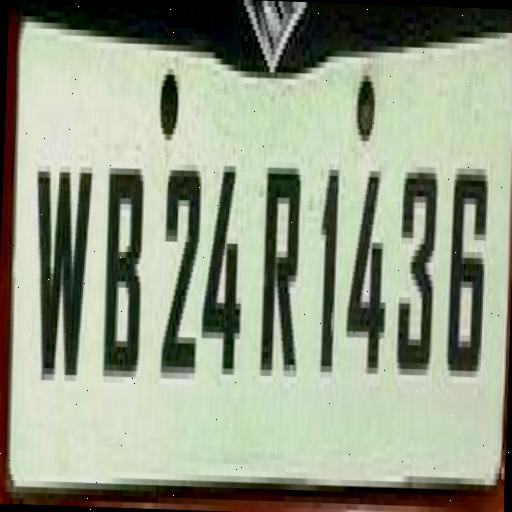number plate: (10, 0, 512, 503)
